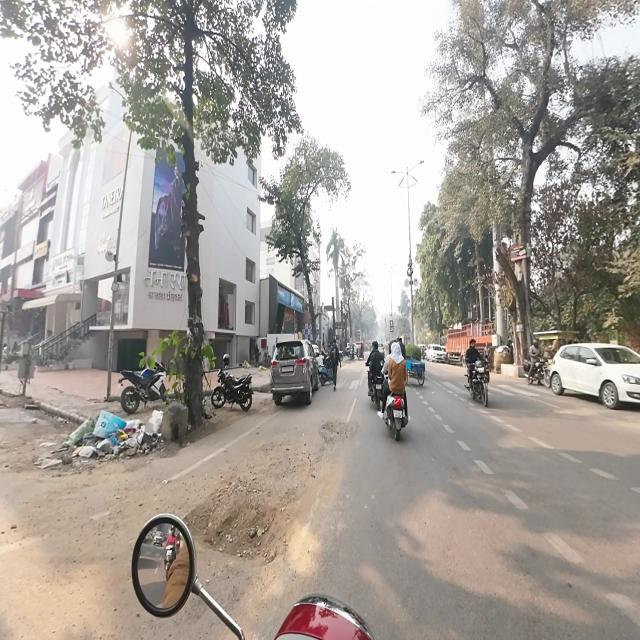Garbage: (67, 411, 162, 462)
